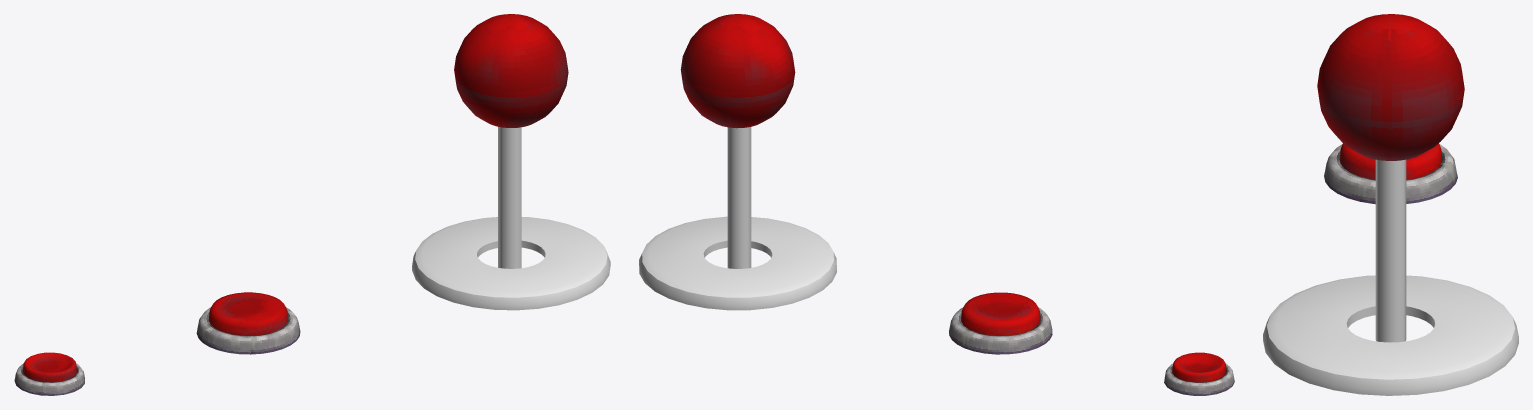
The model's file is controlsAssets.glb.
The picture shows the model from 3 angles, left to right: view 1: azimuth 30°, elevation 25°; view 2: azimuth 150°, elevation 25°; view 3: azimuth 270°, elevation 25°; orthographic projection. The views are drawn at different scales.
Parts seen in each view (by area): view 1: Joystick, UV Sphere.002, Stick, Push.004, Fire button, Push.003, Bomb button; view 2: Joystick, UV Sphere.002, Stick, Push.004, Fire button, Push.003, Bomb button; view 3: Joystick, UV Sphere.002, Stick, Fire button, Push.004.
Boxes of the visible parts, x1=… form: Joystick: x1=412, y1=217, x2=610, y2=310; UV Sphere.002: x1=454, y1=14, x2=568, y2=127; Stick: x1=498, y1=126, x2=521, y2=268; Push.004: x1=209, y1=292, x2=288, y2=335; Fire button: x1=196, y1=307, x2=300, y2=354; Push.003: x1=23, y1=352, x2=76, y2=382; Bomb button: x1=14, y1=363, x2=84, y2=395; Joystick: x1=639, y1=216, x2=836, y2=310; UV Sphere.002: x1=680, y1=14, x2=795, y2=128; Stick: x1=727, y1=127, x2=751, y2=268; Push.004: x1=961, y1=292, x2=1040, y2=335; Fire button: x1=949, y1=307, x2=1052, y2=354; Push.003: x1=1172, y1=352, x2=1226, y2=382; Bomb button: x1=1164, y1=363, x2=1234, y2=395; Joystick: x1=1263, y1=275, x2=1518, y2=395; UV Sphere.002: x1=1317, y1=14, x2=1464, y2=160; Stick: x1=1375, y1=159, x2=1406, y2=342; Fire button: x1=1324, y1=144, x2=1457, y2=204; Push.004: x1=1340, y1=143, x2=1441, y2=179.
Size of the model in its own units: 0.1746 by 0.072 by 0.052.
2 materials, 1 textured.
